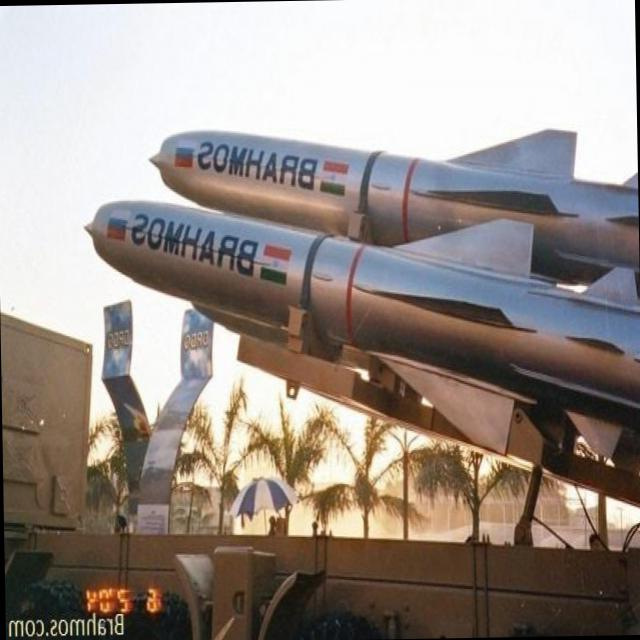rocket: (81, 108, 640, 438)
